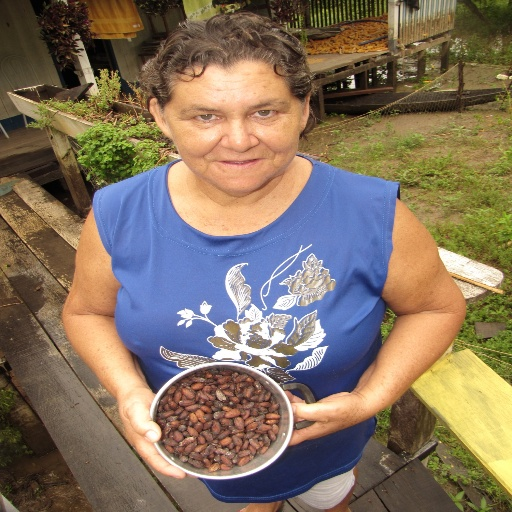hand: (118, 392, 197, 479), (286, 389, 368, 448)
